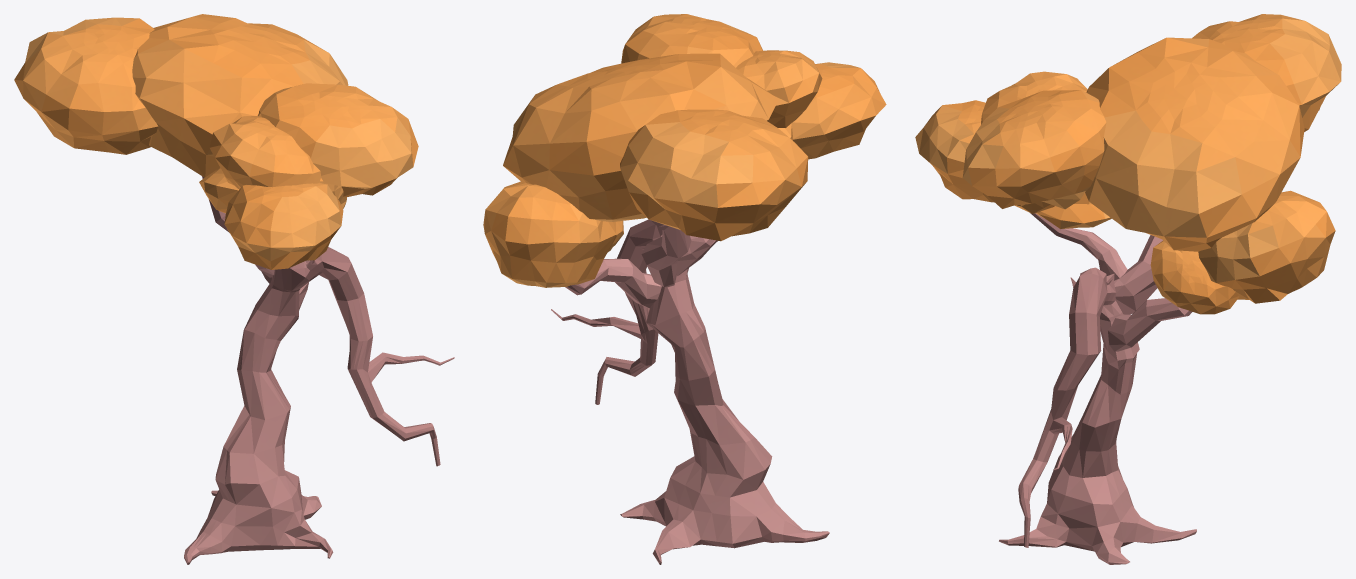
The model's file is tree_2_b.obj.
3 renders of one model, left to right at view 1: azimuth 30°, elevation 25°; view 2: azimuth 150°, elevation 25°; view 3: azimuth 270°, elevation 25°, orthographic. The views are drawn at different scales.
Parts seen in each view (by area): view 1: crown_2_b_Material, trunk_2_b_Material; view 2: crown_2_b_Material, trunk_2_b_Material; view 3: crown_2_b_Material, trunk_2_b_Material.
Part boxes in pixels (<box>): crown_2_b_Material: <box>14,14,418,269</box>; trunk_2_b_Material: <box>184,176,454,564</box>; crown_2_b_Material: <box>483,14,886,287</box>; trunk_2_b_Material: <box>551,219,829,564</box>; crown_2_b_Material: <box>915,14,1341,314</box>; trunk_2_b_Material: <box>999,213,1196,564</box>.
Size of the model in its own units: 3.91 by 5.36 by 4.36.
